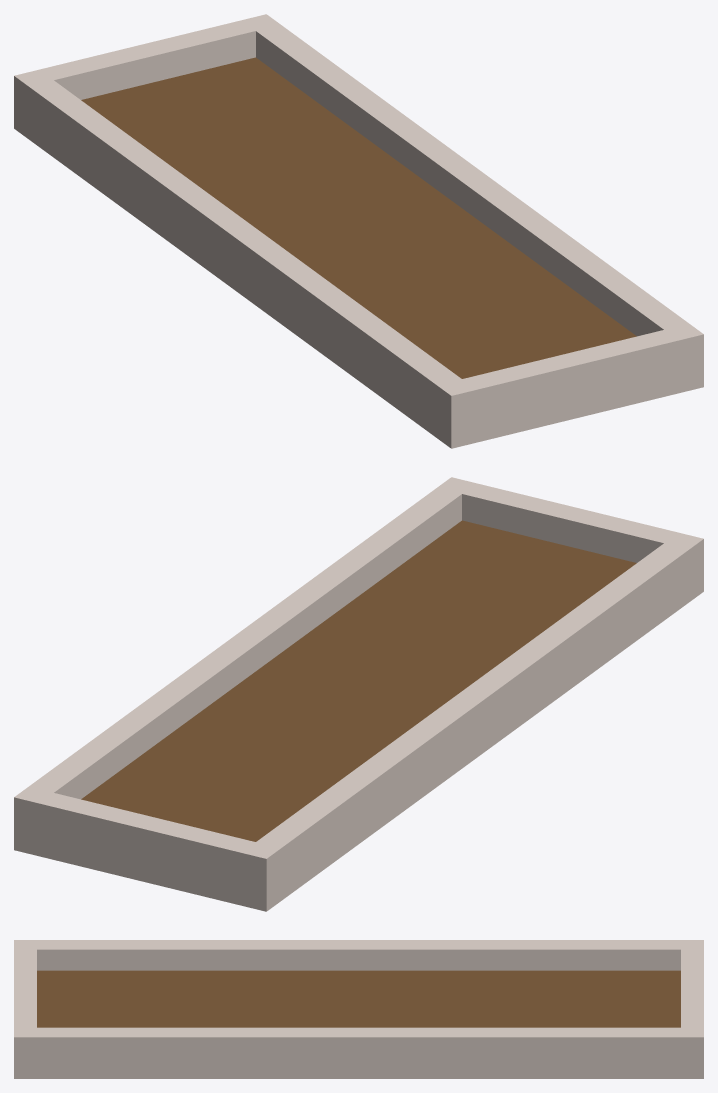
File: roman_gardenplot_long.fbx
3 renders of one model, top to bottom at view 1: azimuth 30°, elevation 25°; view 2: azimuth 150°, elevation 25°; view 3: azimuth 270°, elevation 25°, orthographic. The views are drawn at different scales.
Parts seen in each view (by area): view 1: Cube.063; view 2: Cube.063; view 3: Cube.063.
Part boxes in pixels (<box>): Cube.063: <box>14,14,703,448</box>; Cube.063: <box>14,477,703,911</box>; Cube.063: <box>14,940,703,1078</box>.
Bounding box in the file's own units: 1 × 0.2 × 3.
